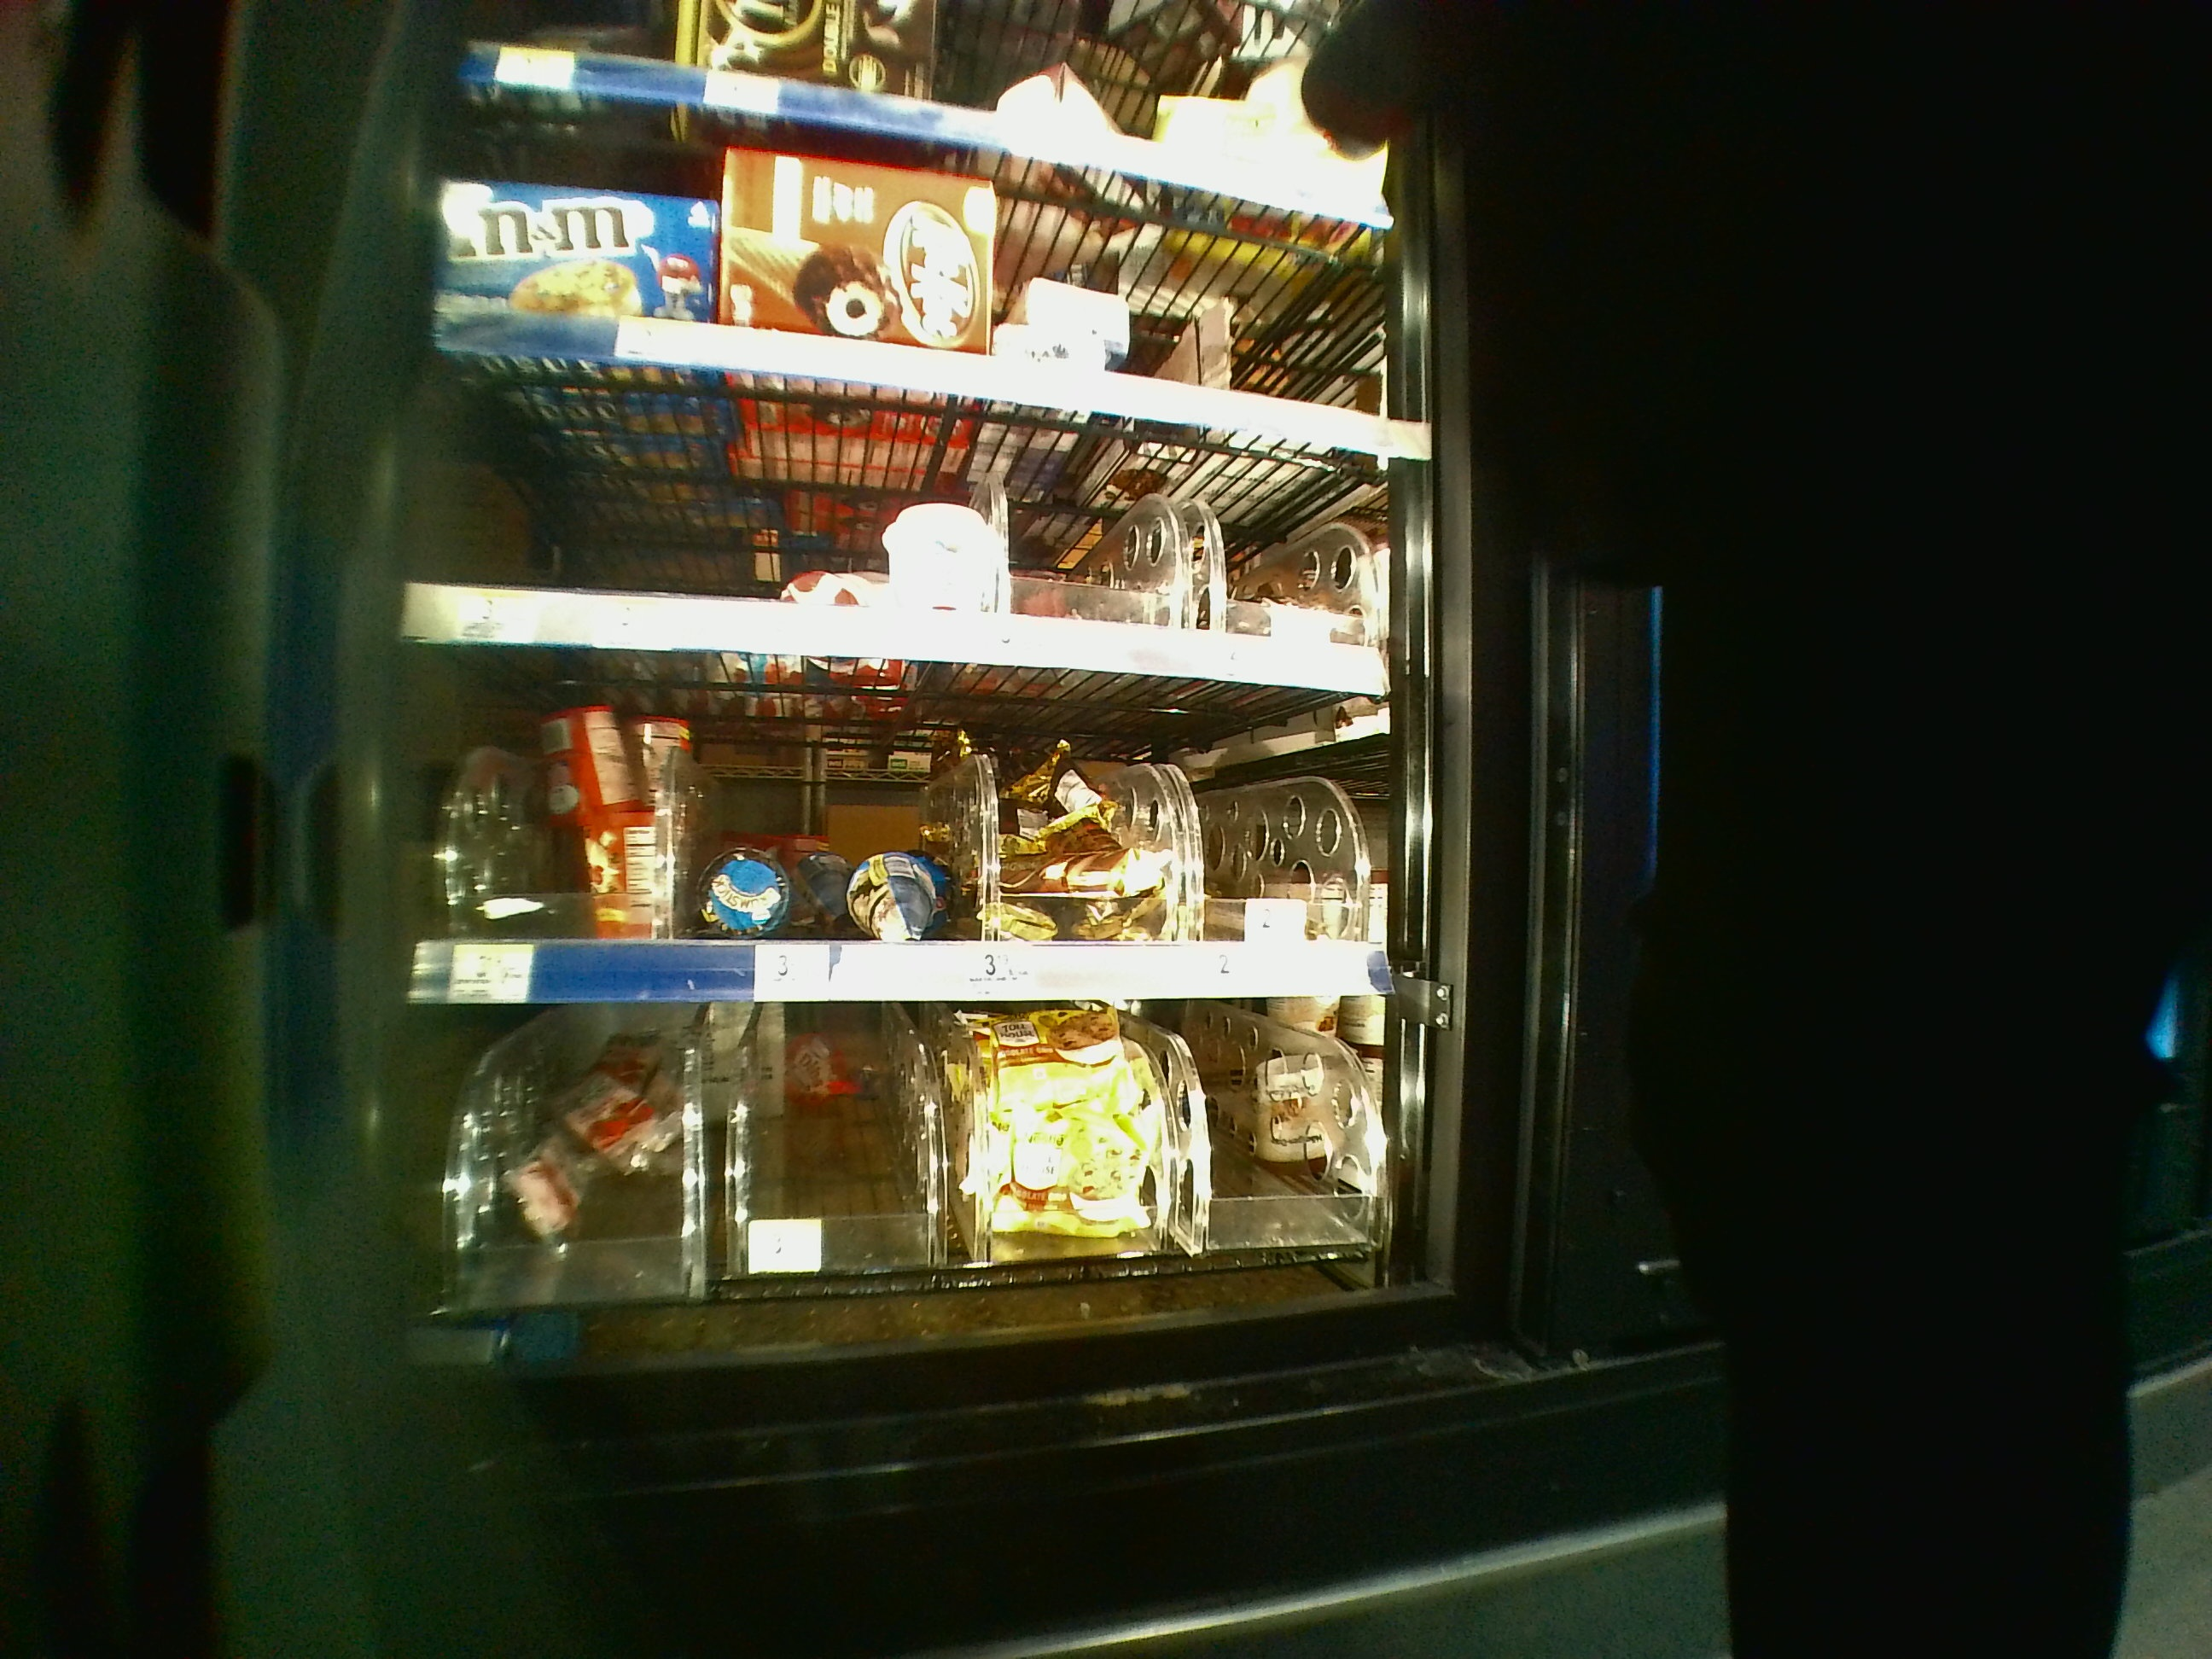shelf: (401, 647, 1399, 990), (415, 1009, 1406, 1344), (415, 355, 1379, 681)
